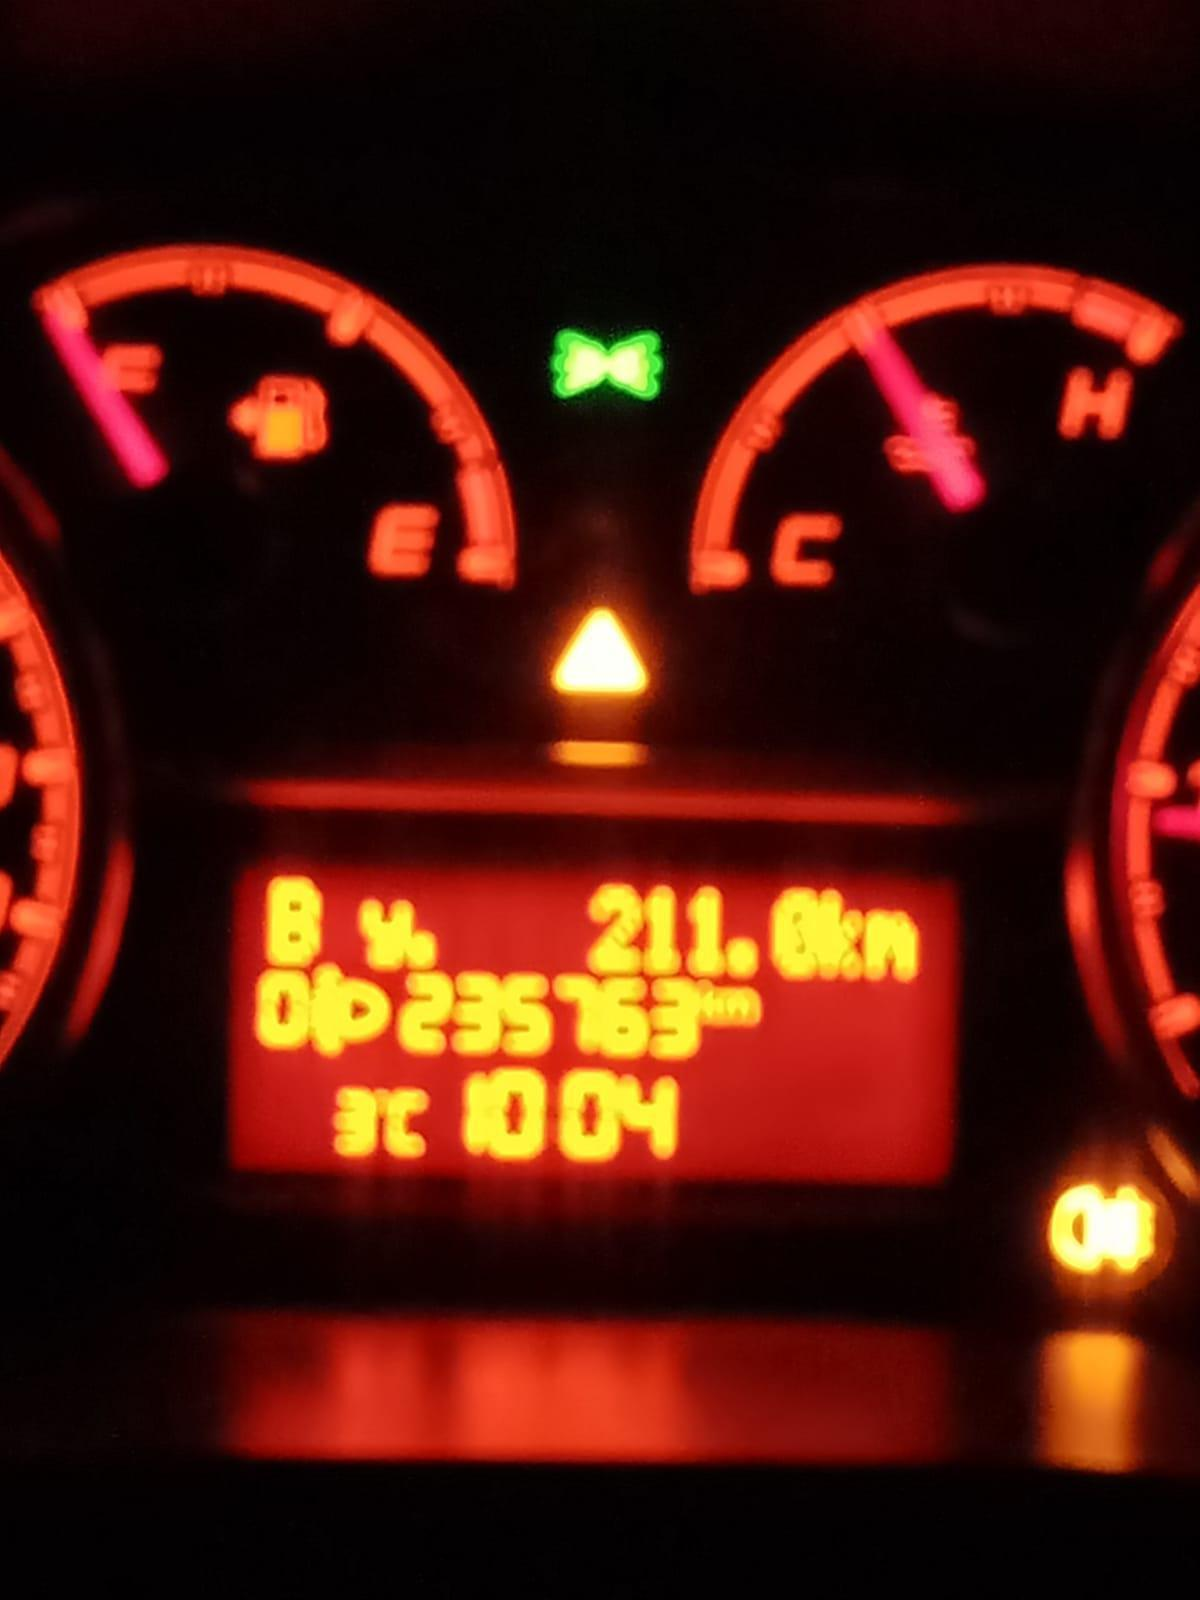,: (724, 934, 763, 979), (406, 929, 440, 970)
0: (556, 1067, 621, 1167), (487, 1065, 548, 1160), (253, 965, 313, 1054), (768, 884, 821, 984)
1: (684, 884, 727, 976), (644, 882, 684, 976), (460, 1068, 488, 1157)
2: (584, 879, 645, 976), (395, 968, 454, 1056)
3: (648, 974, 702, 1065), (453, 969, 502, 1058), (329, 1083, 378, 1160)
4: (620, 1073, 683, 1162)
5: (500, 971, 555, 1060)
6: (597, 975, 650, 1061)
7: (552, 973, 601, 1056)
X: (263, 872, 325, 968), (355, 894, 415, 973), (863, 908, 923, 984), (818, 886, 863, 983), (381, 1086, 431, 1162), (726, 983, 765, 1028), (703, 978, 724, 1027)
odometer: (217, 850, 971, 1198)
